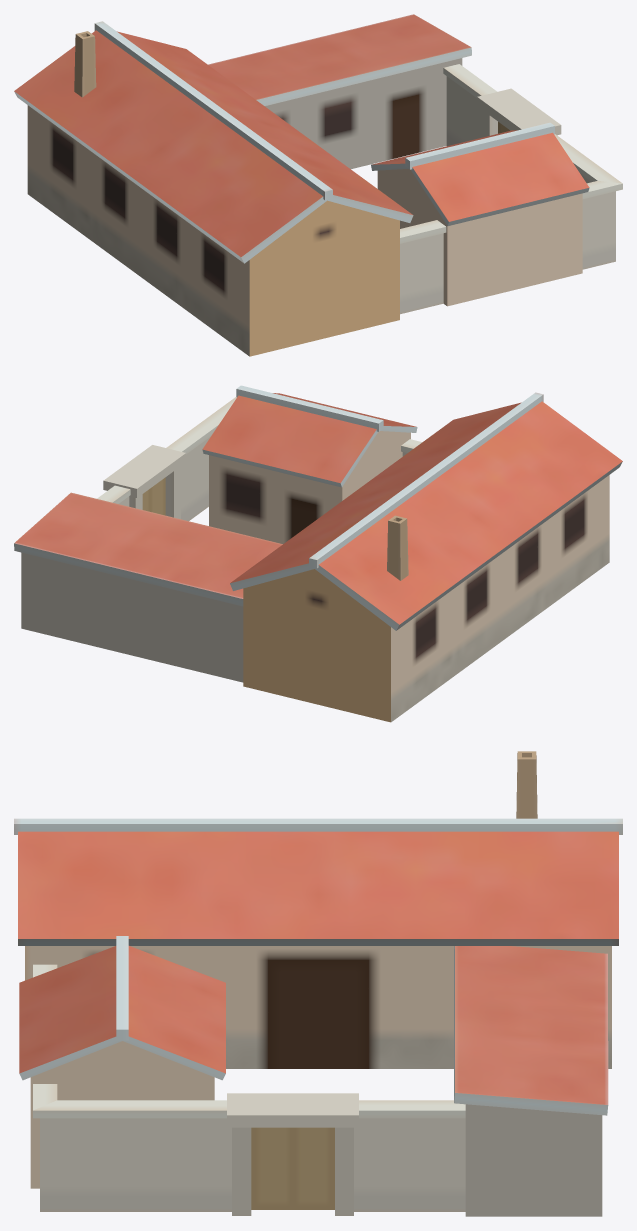
Rendered from Plain_Building_Residential_L1_02_Mod.fbx.
The picture shows the model from 3 angles, top to bottom: view 1: azimuth 30°, elevation 25°; view 2: azimuth 150°, elevation 25°; view 3: azimuth 270°, elevation 25°; orthographic projection. The views are drawn at different scales.
Parts seen in each view (by area): view 1: Plain_Building_Residential_L1_02_Mod; view 2: Plain_Building_Residential_L1_02_Mod; view 3: Plain_Building_Residential_L1_02_Mod.
Part boxes in pixels (box(x1,y1,x2,y2)): Plain_Building_Residential_L1_02_Mod: box(14, 14, 622, 356); Plain_Building_Residential_L1_02_Mod: box(14, 385, 622, 722); Plain_Building_Residential_L1_02_Mod: box(14, 751, 622, 1216).
Size of the model in its own units: 1189 by 502 by 1188.
